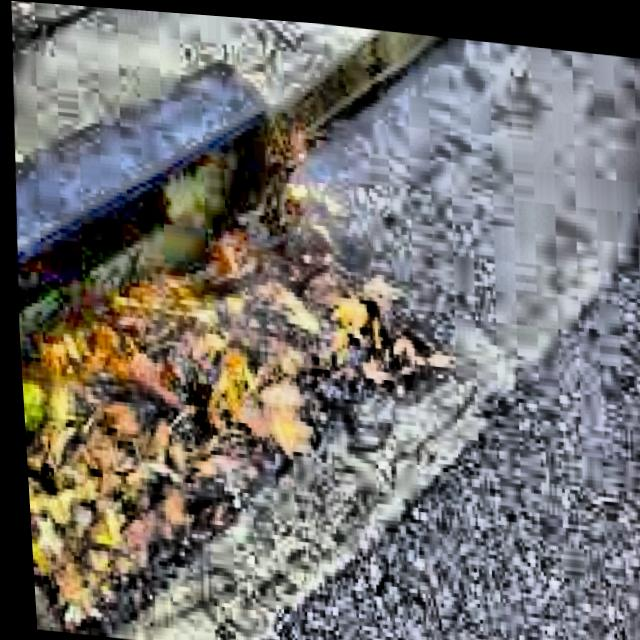clogged_drains: (14, 32, 526, 640)
